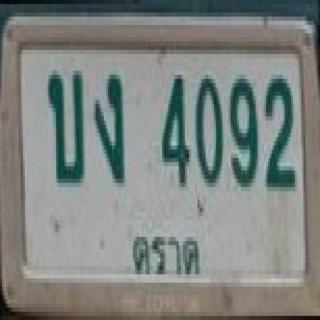A07: (91, 67, 133, 189)
A26: (44, 67, 91, 185)
N00: (192, 70, 225, 192)
N02: (260, 70, 300, 192)
N04: (157, 70, 194, 192)
N09: (225, 70, 262, 190)
P71: (128, 229, 205, 278)
